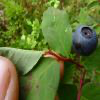Blueberry leaf: (41, 5, 72, 57)
